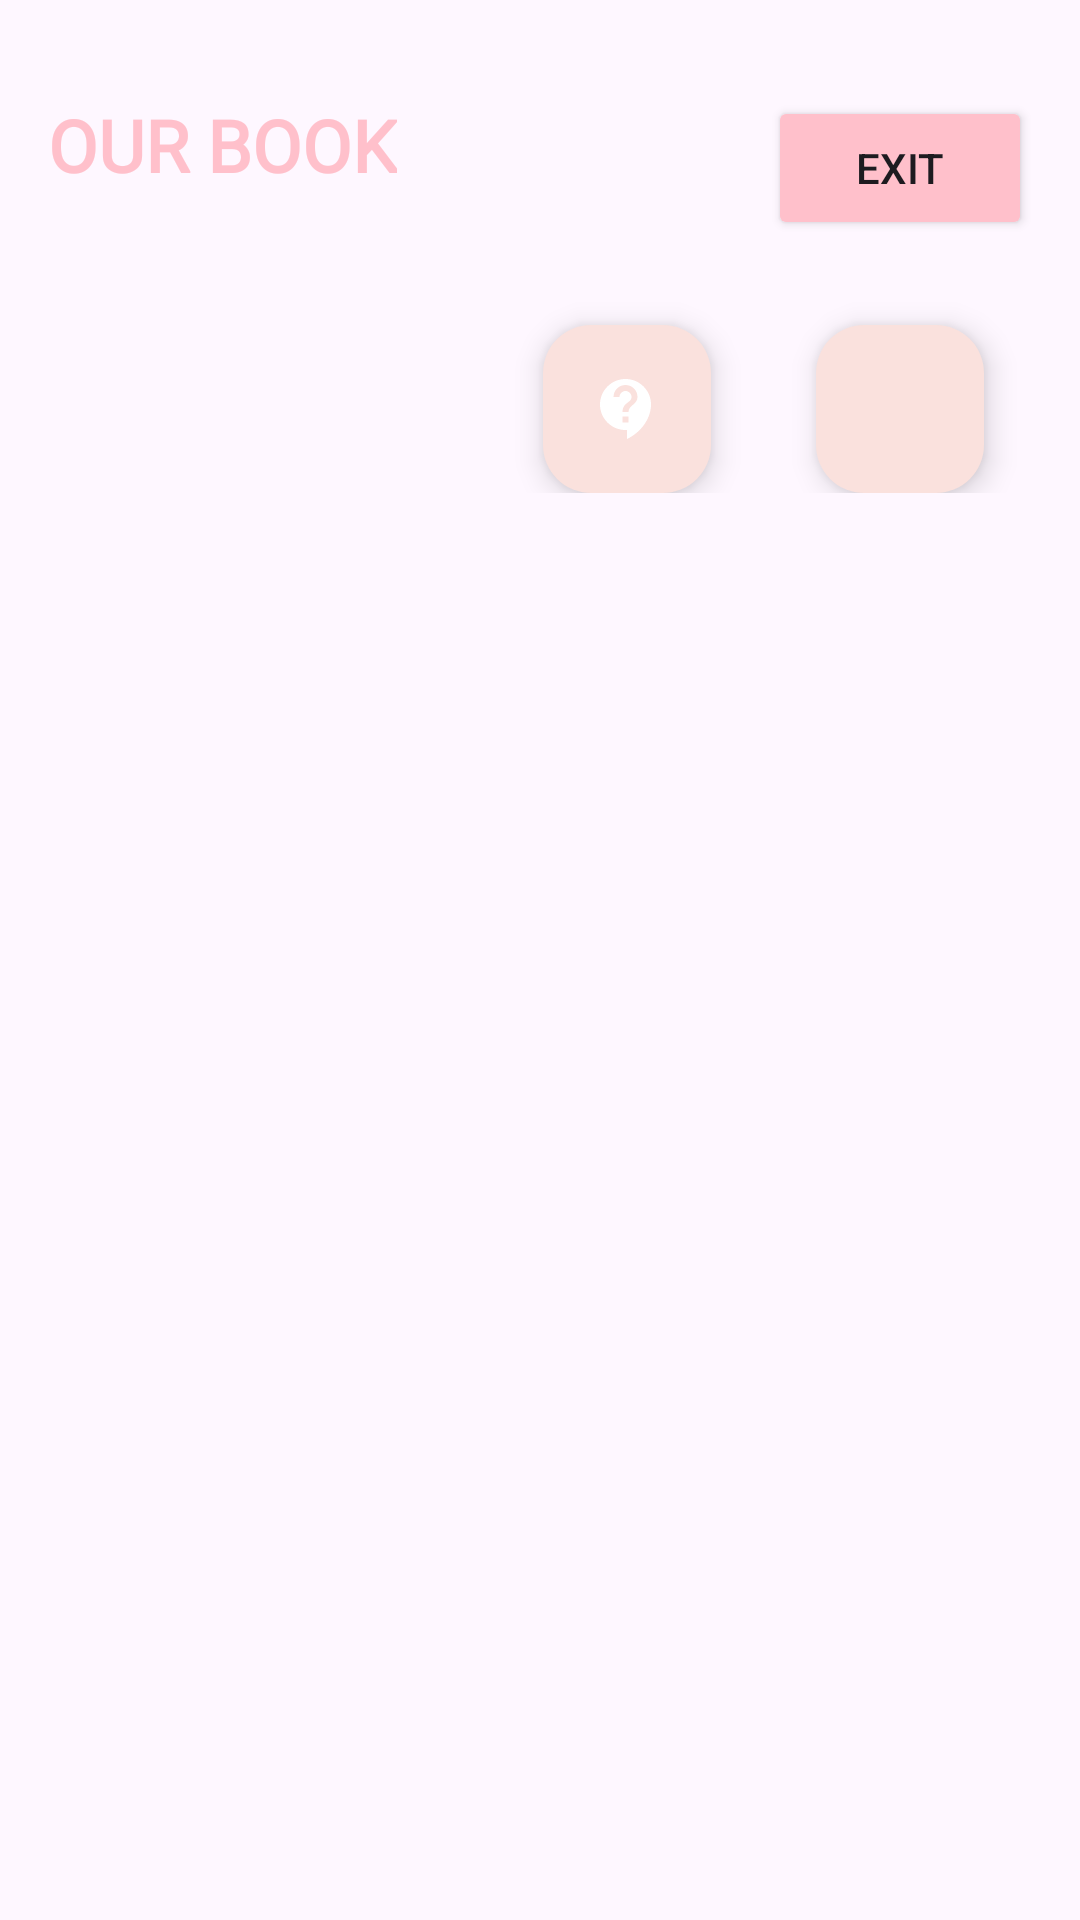

Locate icon controls on the screen. Image size 1080 × 1920, boxes as (x1, y1, x2, y2).
contact support: (543, 325, 711, 493)
